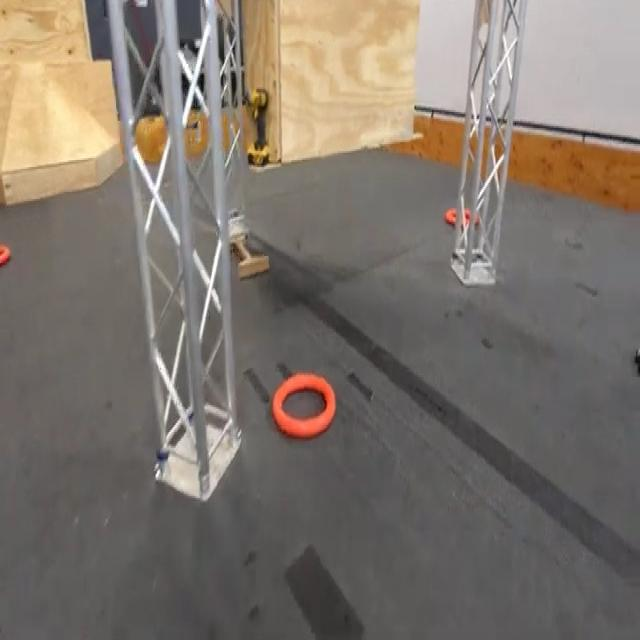note: (272, 376, 339, 440), (444, 207, 479, 224), (0, 240, 12, 265)
